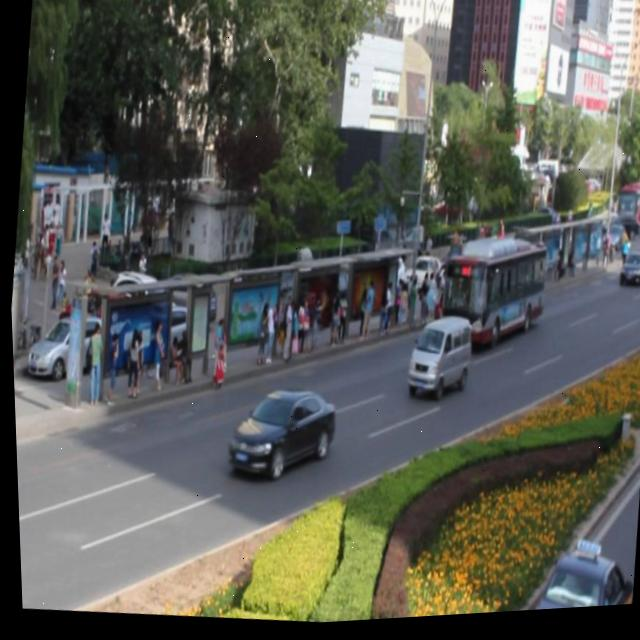car: (220, 383, 333, 483)
truck: (400, 314, 470, 402)
van: (434, 237, 547, 358)
